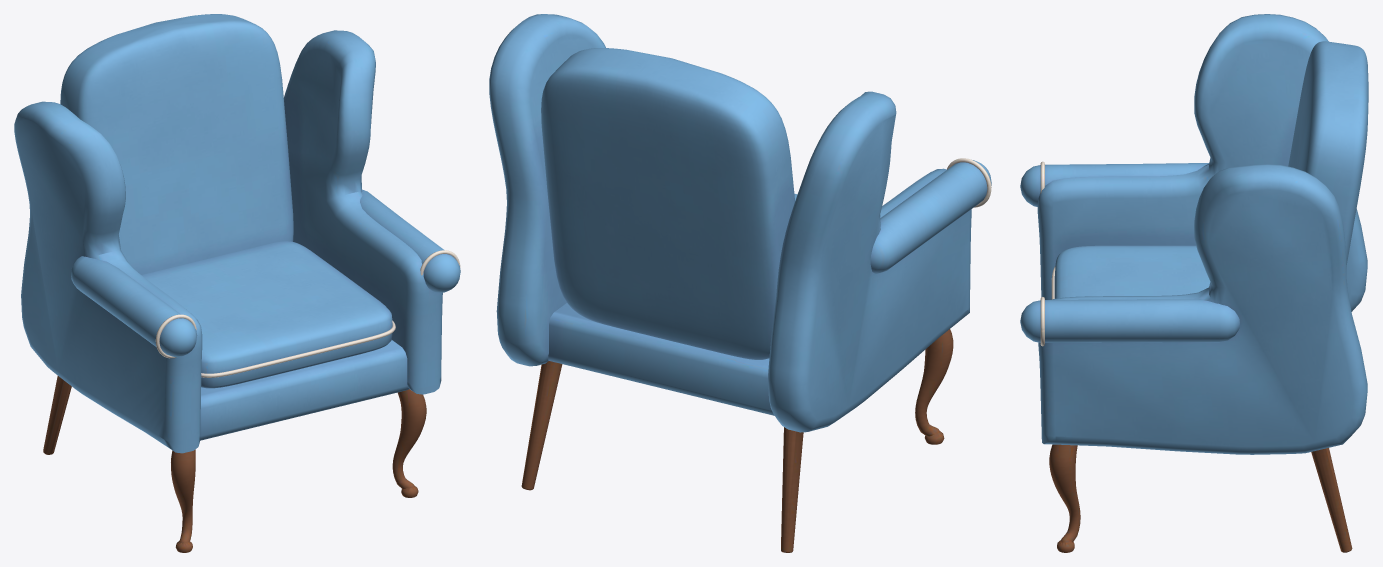
Rendered from wingback-chair.glb.
The picture shows the model from 3 angles, left to right: view 1: azimuth 30°, elevation 25°; view 2: azimuth 150°, elevation 25°; view 3: azimuth 270°, elevation 25°; orthographic projection. The views are drawn at different scales.
Visible parts, largest first — view 1: wingback-chair_body; view 2: wingback-chair_body; view 3: wingback-chair_body.
Boxes of the visible parts, x1,y1,x2,y2 form: wingback-chair_body: [14, 14, 460, 552]; wingback-chair_body: [489, 14, 991, 552]; wingback-chair_body: [1020, 14, 1368, 552].
Bounding box in the file's own units: 0.9472 × 1.12 × 0.8342.
Materials: 1 (1 with a texture image).
